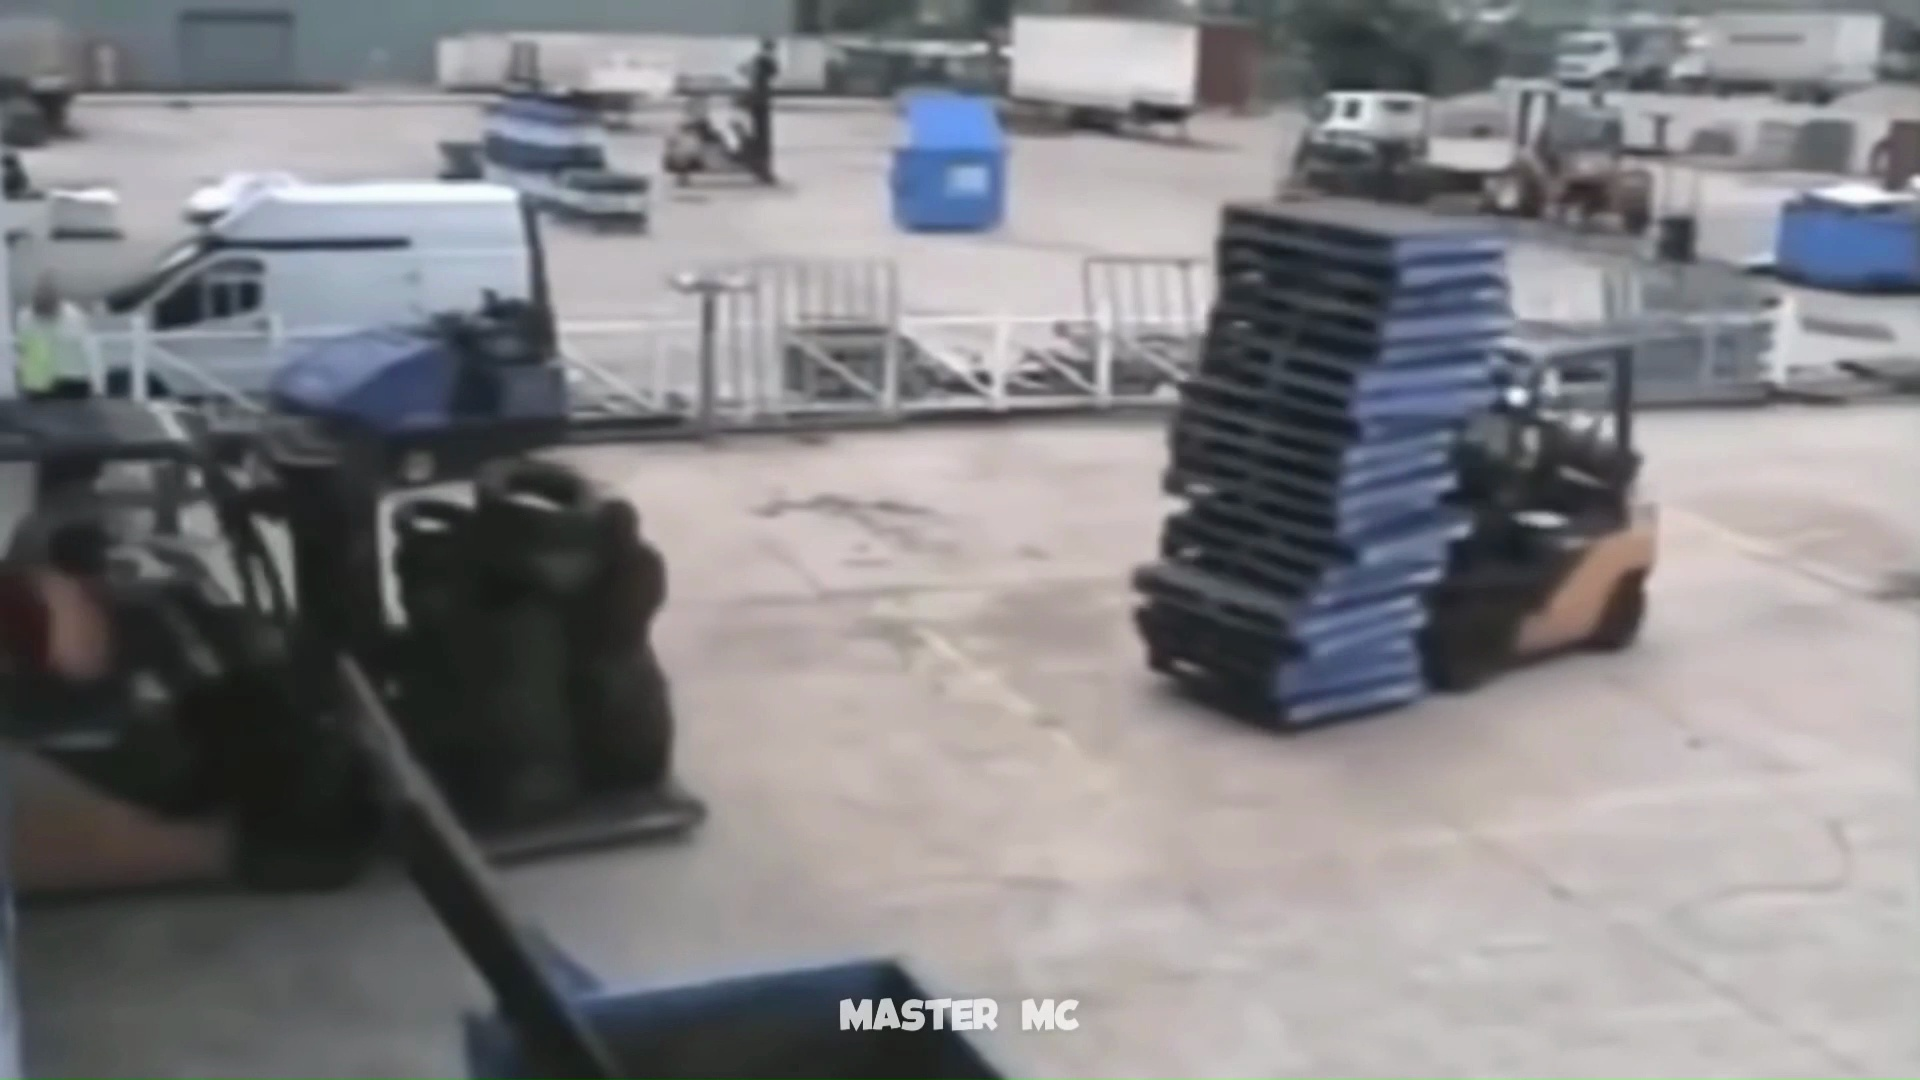forklift: (3, 396, 694, 874), (1138, 202, 1664, 727)
